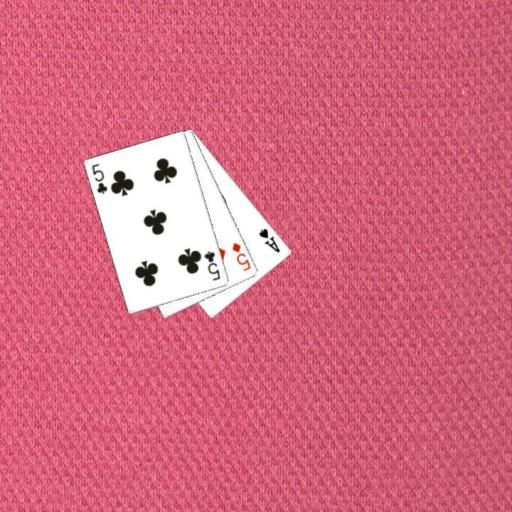5C: (201, 248, 222, 282), (89, 161, 109, 196)
5D: (229, 240, 252, 273)
AS: (256, 226, 282, 255)
